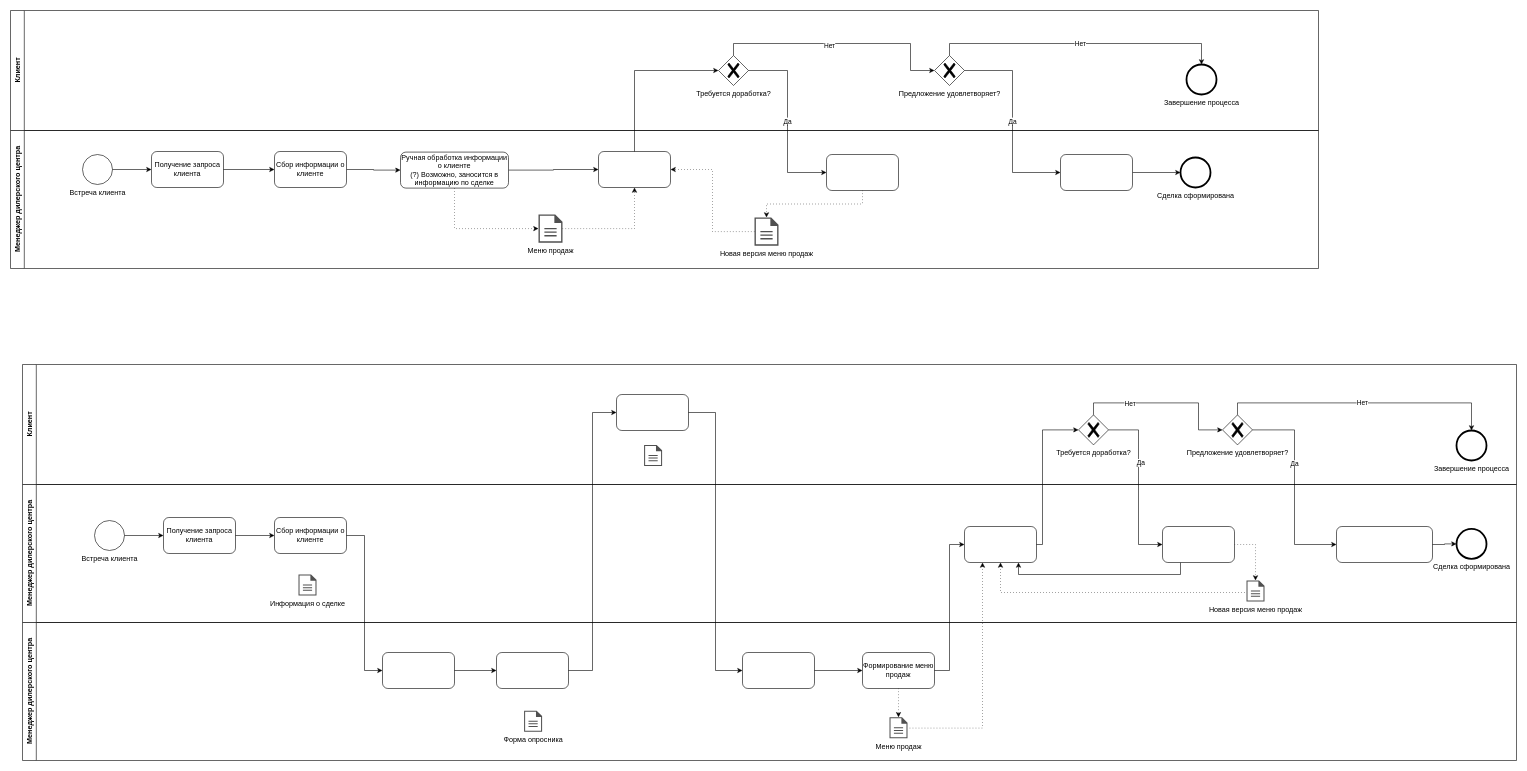
The diagram is 1527 pixels wide and 771 high, and some of its shapes have lost their labels. Here are the shapes that lost their labels. From the top down, the centre of each, then its label:
(x=634, y=169): Предоставить меню продаж
(x=862, y=172): Доработка меню
(x=1096, y=172): Формирование сделки
(x=652, y=412): Заполнение опросника
(x=653, y=455): Заполненный опросник
(x=1000, y=544): Предоставление меню продаж
(x=1198, y=544): Доработка меню продаж
(x=1384, y=544): Формирование сделки (?) Нужно добавить, что сделка сохраняется в системе?
(x=418, y=670): Обработка информации
(x=532, y=670): Подбор формы опросника
(x=778, y=670): Обработка информации из опросника
